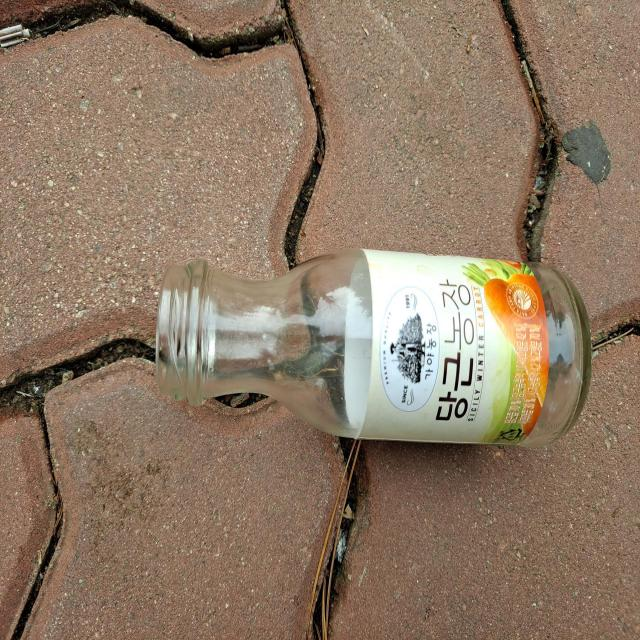glass: (156, 249, 591, 446)
